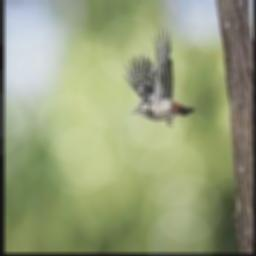Woodpecker: (122, 23, 194, 126)
